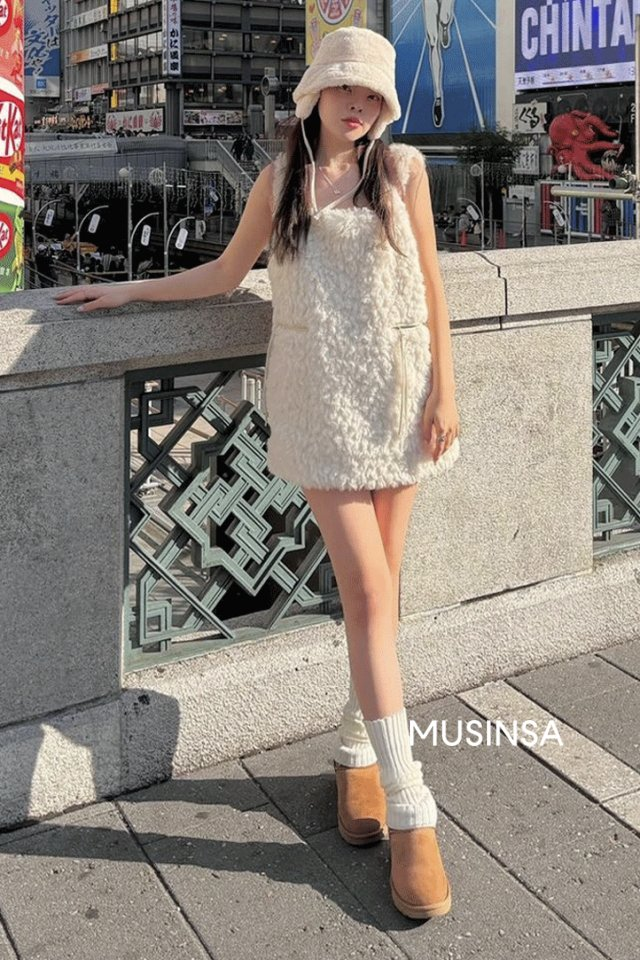Boots: (320, 728, 465, 929)
Hat: (288, 20, 405, 130)
Top: (269, 147, 463, 484)
